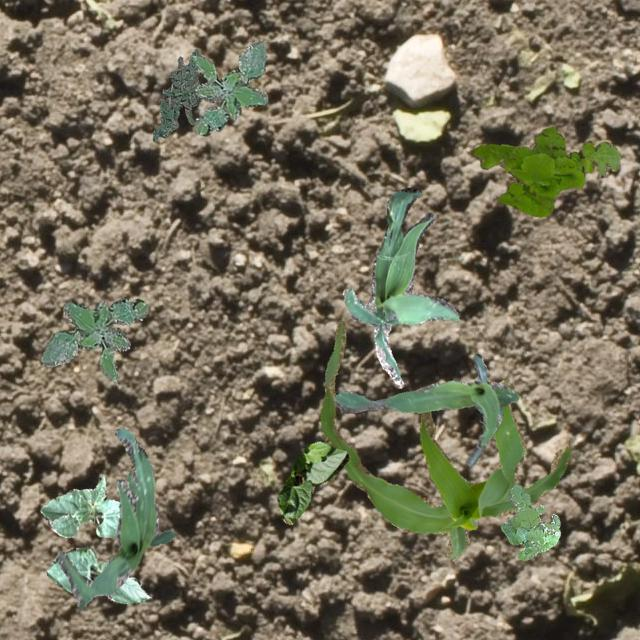crop: (320, 320, 570, 560), (342, 186, 458, 386), (55, 428, 174, 608), (334, 352, 518, 464), (276, 441, 348, 524), (46, 546, 150, 602), (40, 476, 119, 536)
weed: (472, 126, 620, 216), (39, 296, 148, 381), (190, 39, 266, 134), (500, 484, 560, 560), (152, 48, 200, 140)
